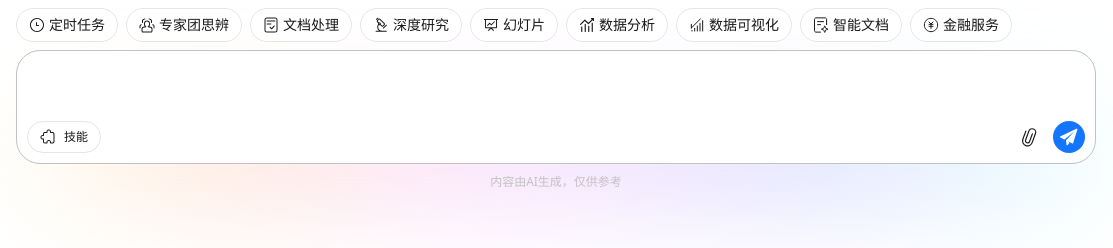
Test: ChatInput skill token send behavior › shows the main placeholder after deleting all template content
Clear the field at (556, 86), box top-left (17, 51), bottom-right (1095, 121)
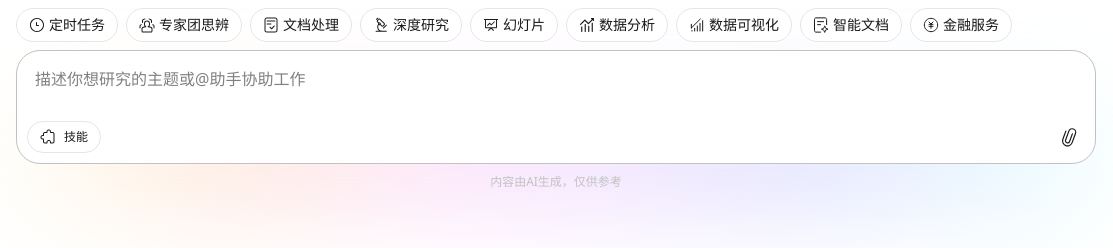
expect the text "描述你想研究的主题或@助手协助工作" is shown: met, box top-left (35, 67), bottom-right (305, 91)
